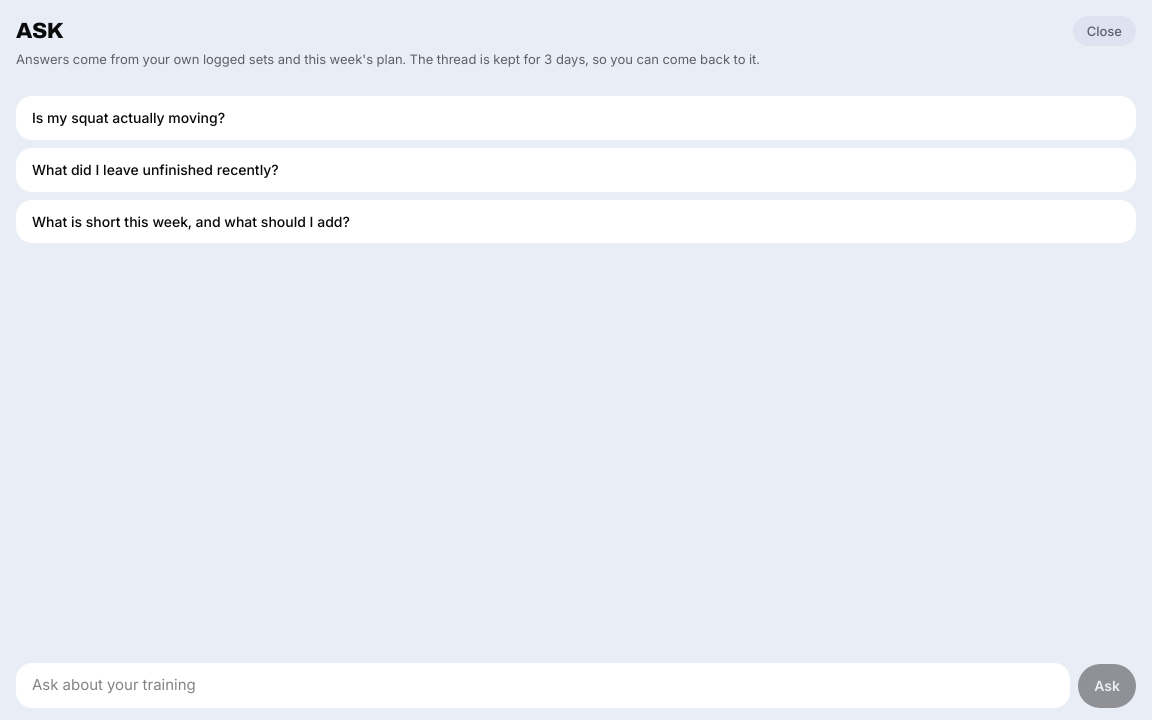
Test: an answer arriving a piece at a time › reports a stream that dies mid-answer rather than keeping half of it
This screenshot has width=1152, height=720.
Click the button "Is my squat actually moving?" at (129, 118), box [16,96,1136,140]
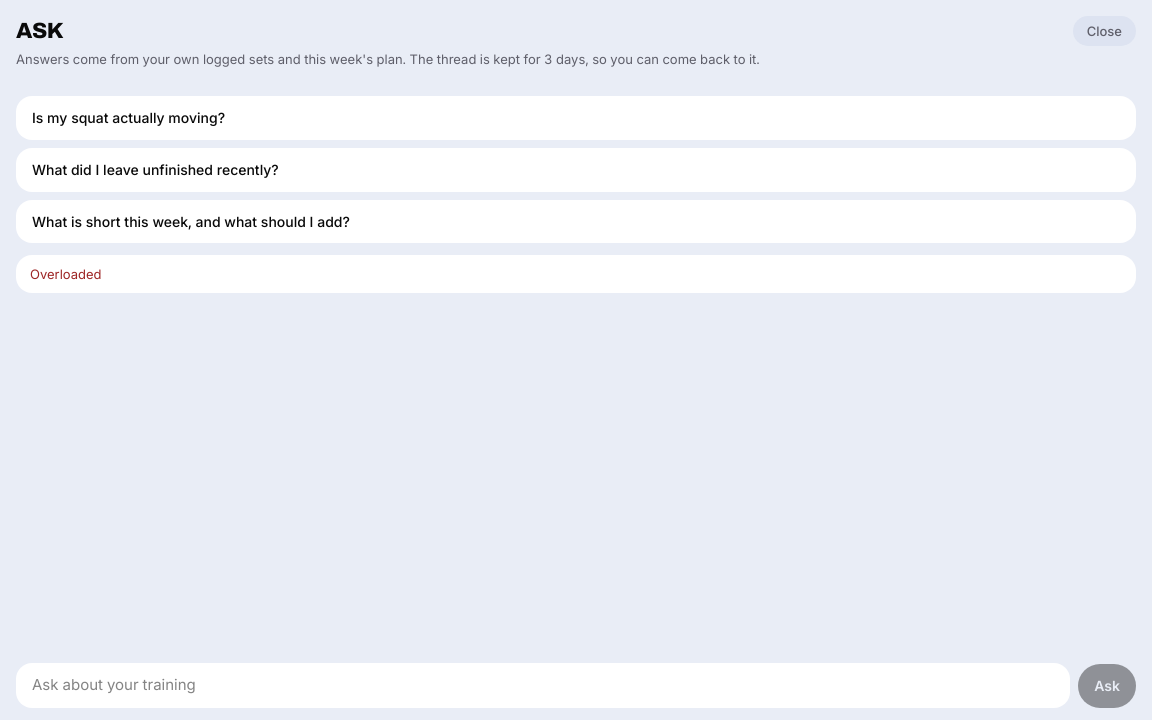
Check: the text "Overloaded" is shown, box [16,255,1136,293]
